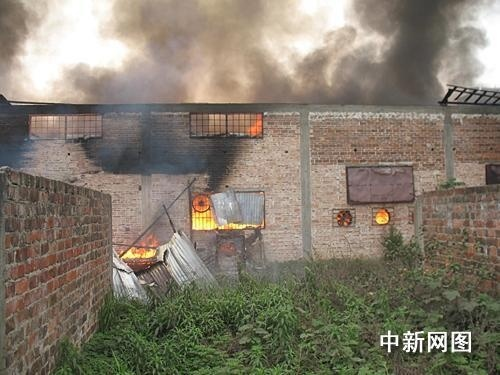fire: (120, 237, 159, 260), (191, 196, 215, 229), (372, 206, 390, 224)
